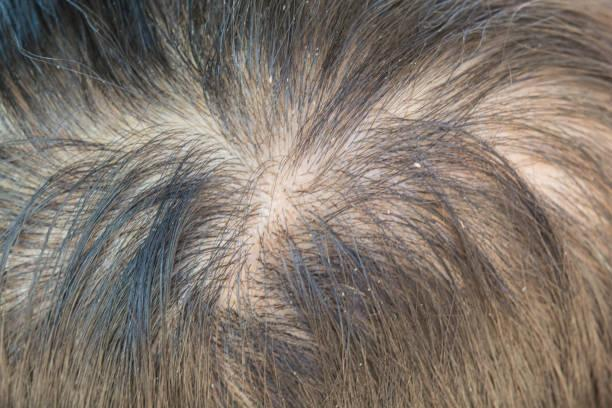dandruff: (298, 44, 328, 65), (456, 211, 468, 235), (408, 159, 425, 175), (480, 307, 499, 321), (333, 285, 351, 299), (49, 62, 65, 75), (350, 265, 366, 276), (393, 55, 407, 67), (265, 72, 277, 86), (354, 358, 368, 369), (279, 3, 295, 12), (342, 304, 355, 315), (362, 284, 375, 294), (521, 281, 527, 295)
